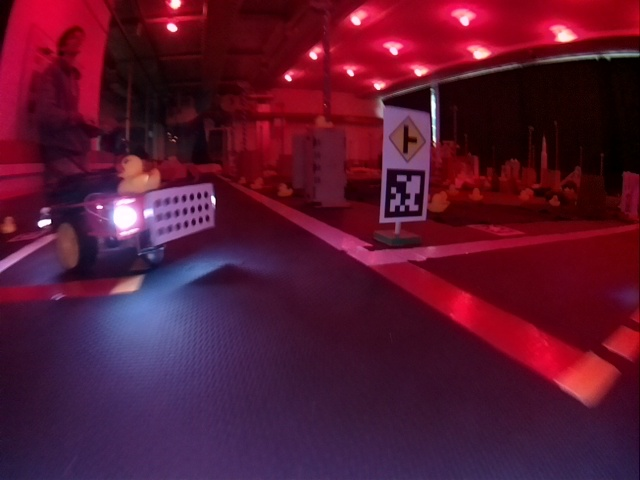Duckie: (115, 156, 160, 195), (4, 216, 17, 235), (278, 183, 293, 197), (251, 179, 262, 188)
Duckiebot: (45, 172, 215, 271)
Intersection sign: (389, 115, 425, 162)
QR code: (384, 168, 424, 218), (472, 224, 524, 237), (9, 230, 49, 242)
